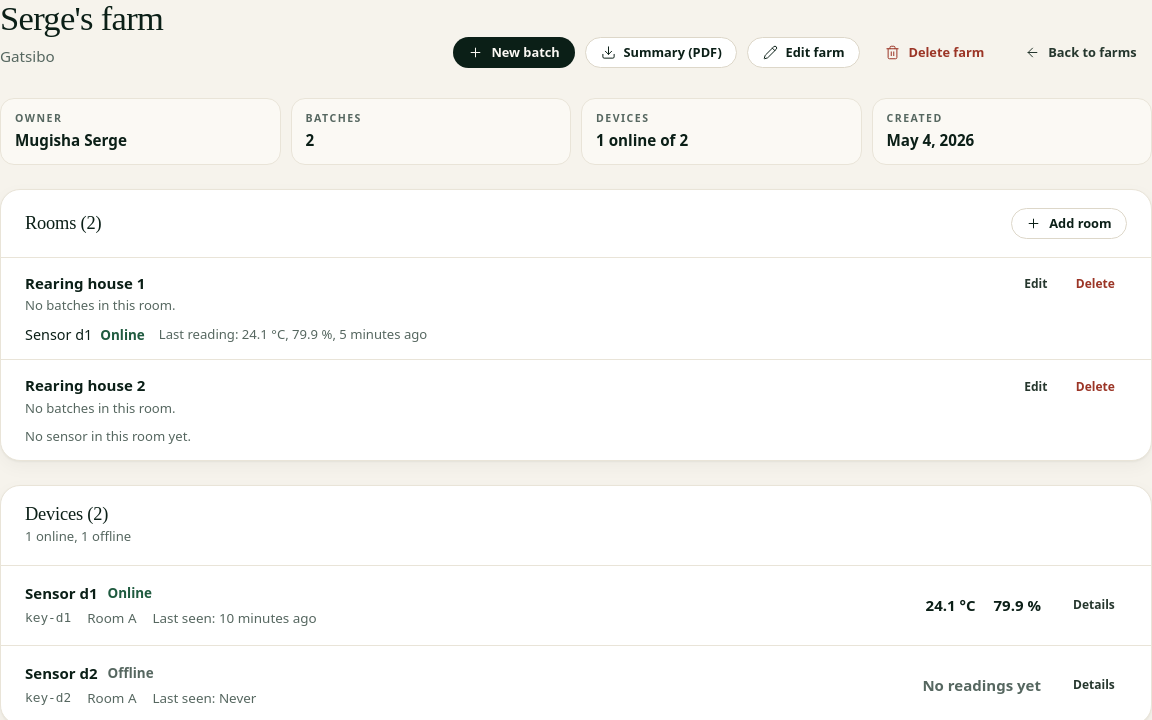
it: Farm details page › opens a device in the same dialog the Devices page uses
Click the button "Details" in the row of "key-d1" at point(1094, 605), box [1061,593,1127,618]
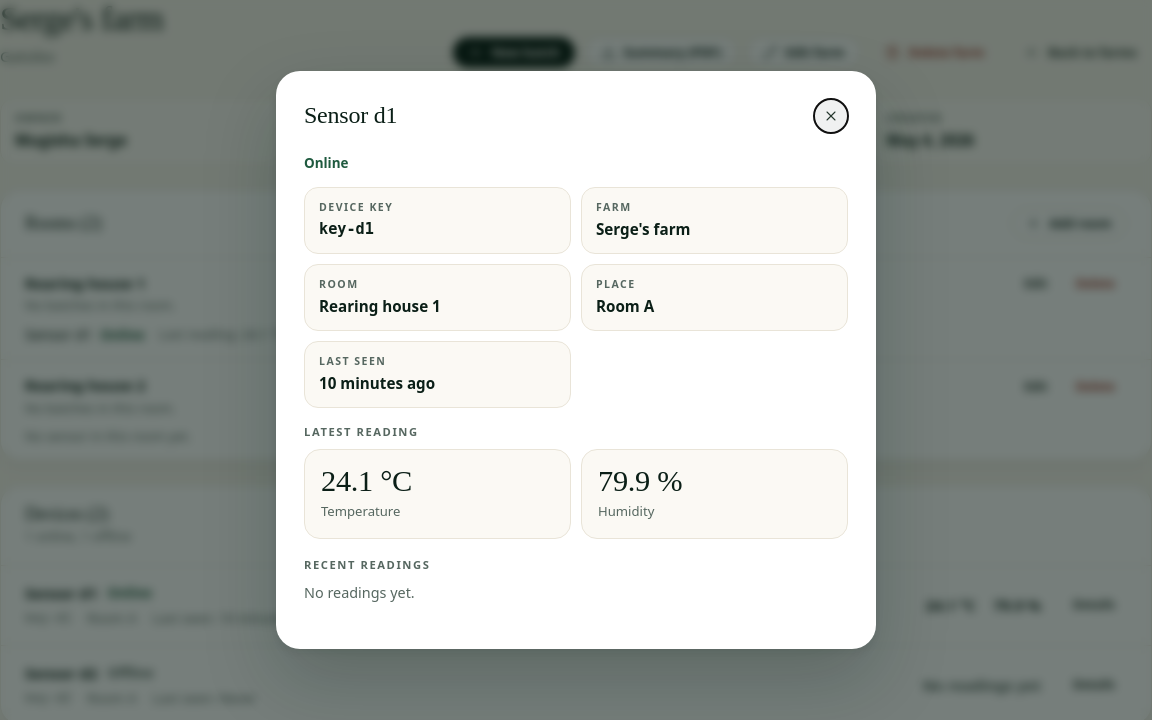
Now the dialog "Sensor d1" is shown, box [276,71,876,649]
